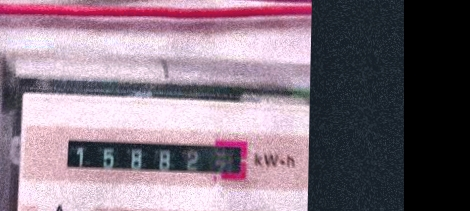1: (73, 144, 87, 166)
2: (184, 148, 200, 172)
5: (101, 144, 115, 170)
7: (214, 155, 226, 173)
8: (157, 147, 171, 172), (129, 147, 142, 170)
screen: (57, 129, 255, 188)
